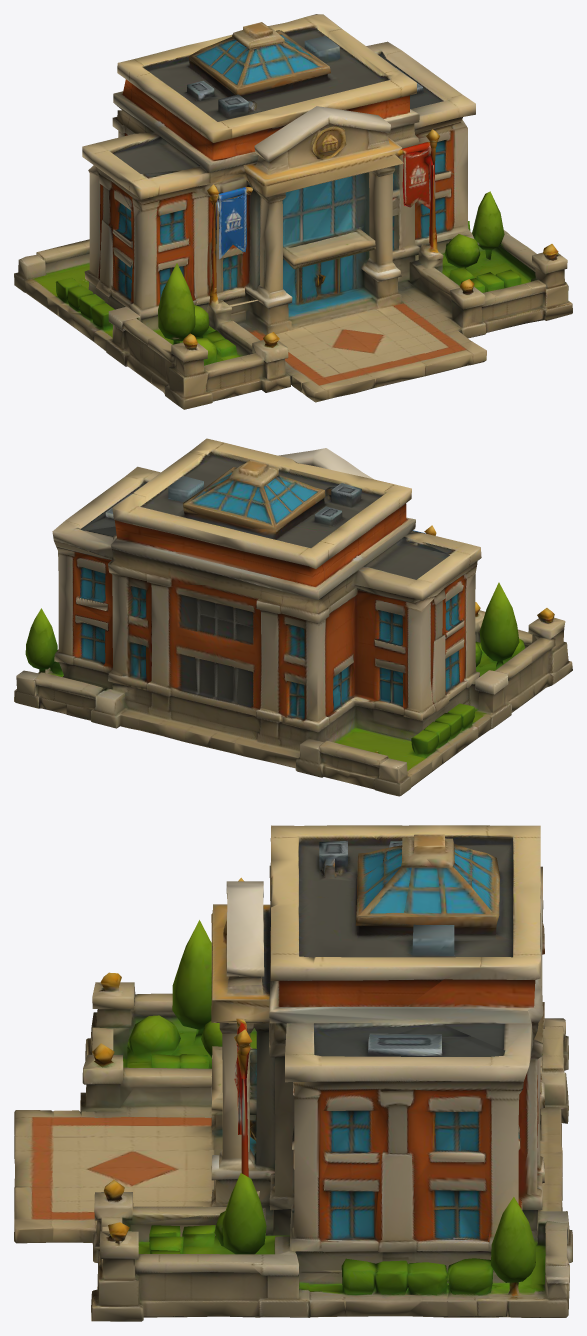
File: district_center.glb
The picture shows the model from 3 angles, top to bottom: view 1: azimuth 30°, elevation 25°; view 2: azimuth 150°, elevation 25°; view 3: azimuth 270°, elevation 25°; orthographic projection. The views are drawn at different scales.
Visible parts, largest first — view 1: tripo_node_a193514e-12ad-40e4-9ef0-61435208b489; view 2: tripo_node_a193514e-12ad-40e4-9ef0-61435208b489; view 3: tripo_node_a193514e-12ad-40e4-9ef0-61435208b489.
Boxes of the visible parts, bbox=[...] form: tripo_node_a193514e-12ad-40e4-9ef0-61435208b489: bbox=[14, 14, 572, 409]; tripo_node_a193514e-12ad-40e4-9ef0-61435208b489: bbox=[14, 438, 572, 796]; tripo_node_a193514e-12ad-40e4-9ef0-61435208b489: bbox=[14, 825, 572, 1321].
Bounding box in the file's own units: 1 × 0.604 × 0.8752.
Materials: 1 (1 with a texture image).
